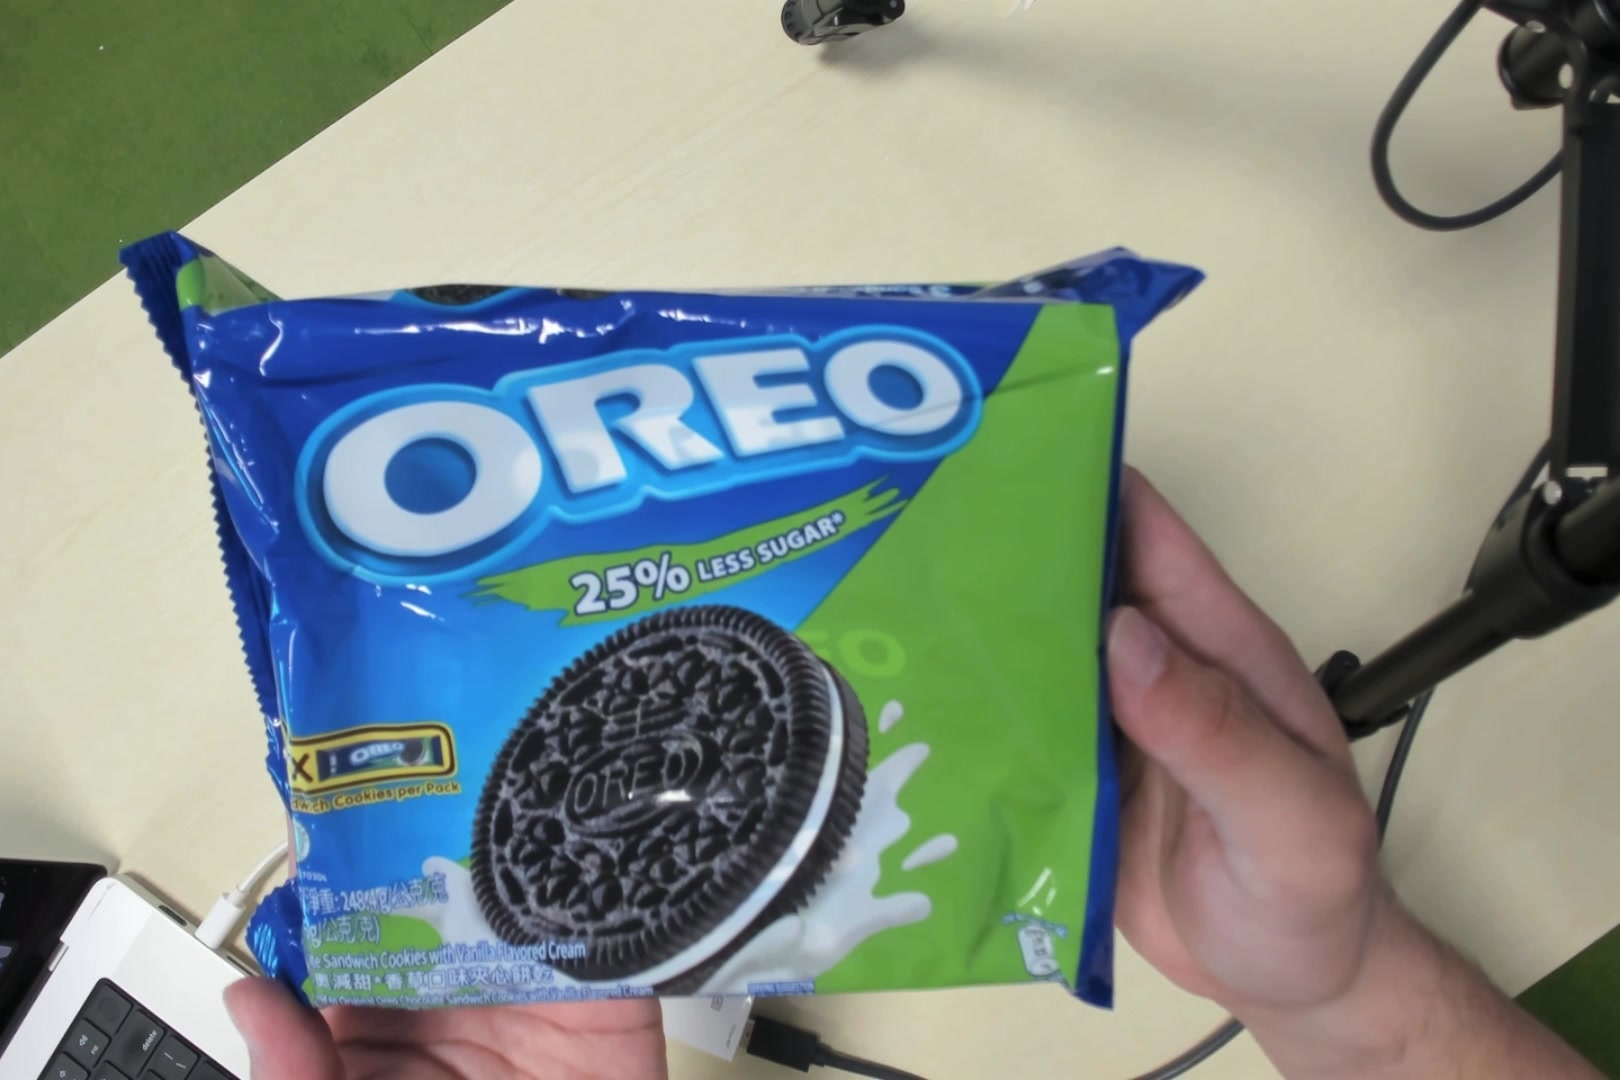SweetsChocolatesOthers_200-299g_Halal_NonHealthy: (256, 315, 1090, 1037)
